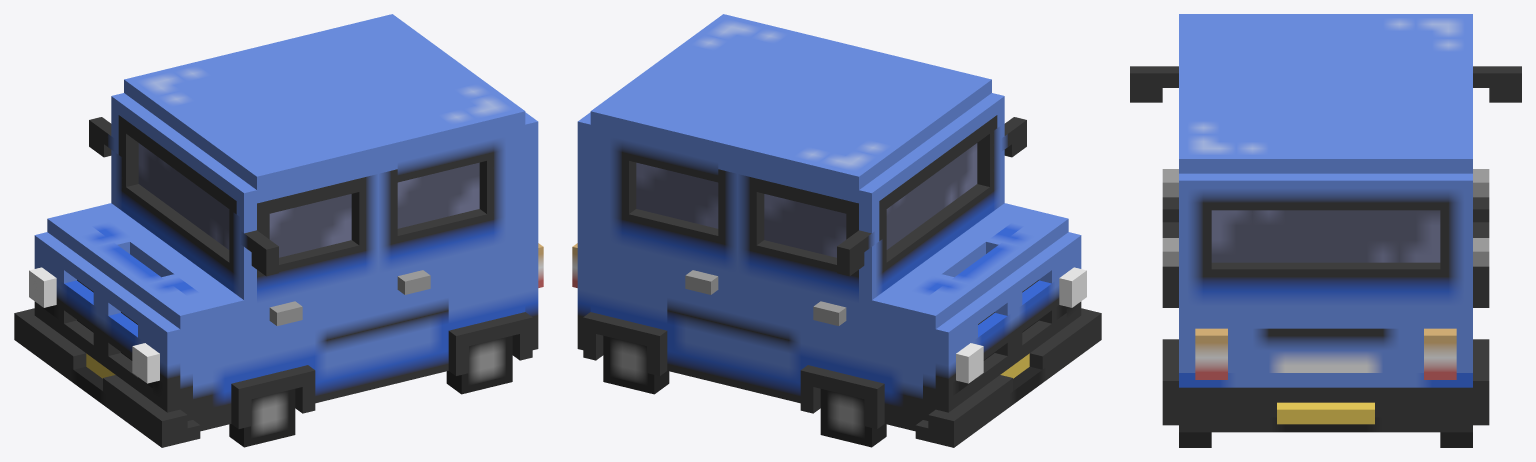
The model's file is bluecar.obj.
3 views of the same model, side by side, from view 1: azimuth 30°, elevation 25°; view 2: azimuth 150°, elevation 25°; view 3: azimuth 270°, elevation 25° (orthographic). The views are drawn at different scales.
Visible parts, largest first — view 1: Box_88; view 2: Box_88; view 3: Box_88.
Part boxes in pixels (left/top/right/bottom): Box_88: left=14, top=14, right=543, bottom=447; Box_88: left=572, top=14, right=1101, bottom=447; Box_88: left=1130, top=14, right=1521, bottom=447.
Size of the model in its own units: 31 by 20 by 24.
1 material, 1 textured.
